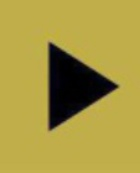ImgButton: (1, 1, 139, 172)
